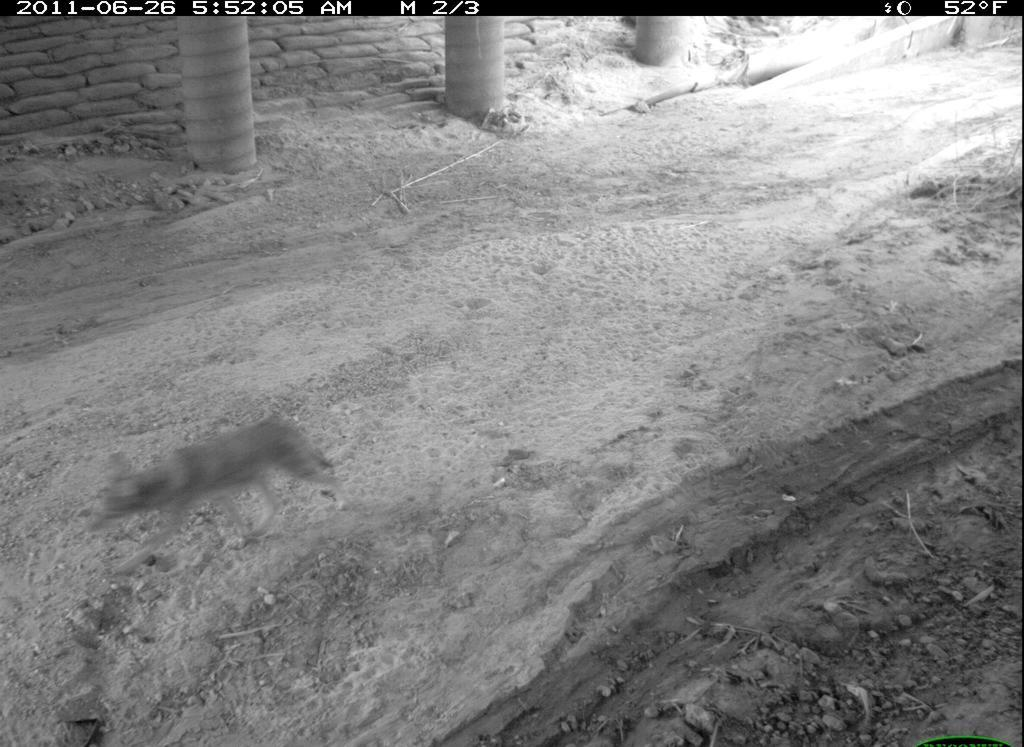coyote: (91, 414, 355, 557)
